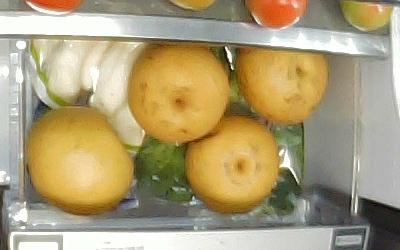pear: (26, 108, 135, 214), (129, 44, 230, 143), (184, 115, 279, 213), (236, 48, 329, 125)
